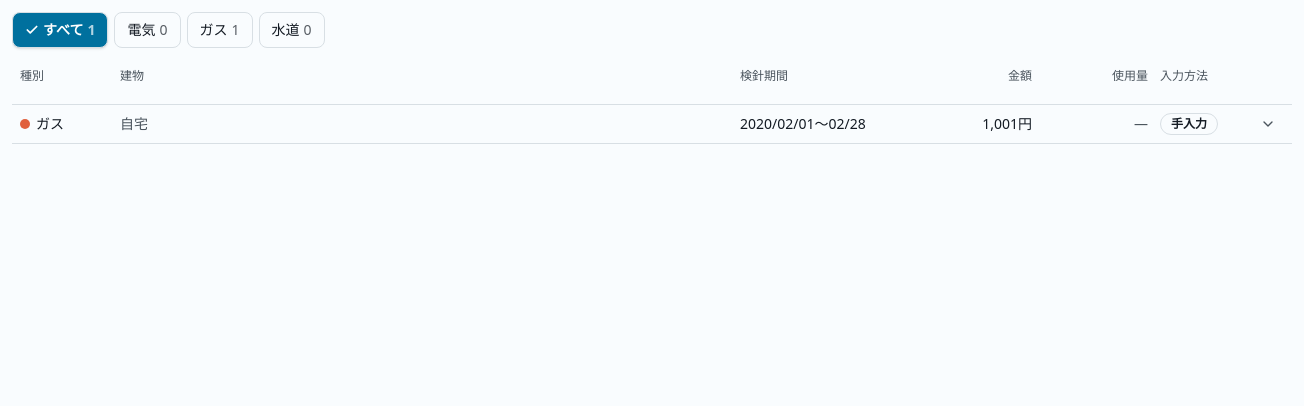
RecordList › rejects an invalid 使用量（m³）
Click the button "ガス 自宅 2020/02/01〜02/28 1,001円 — 手入力" at (803, 124), box [12, 105, 1292, 143]
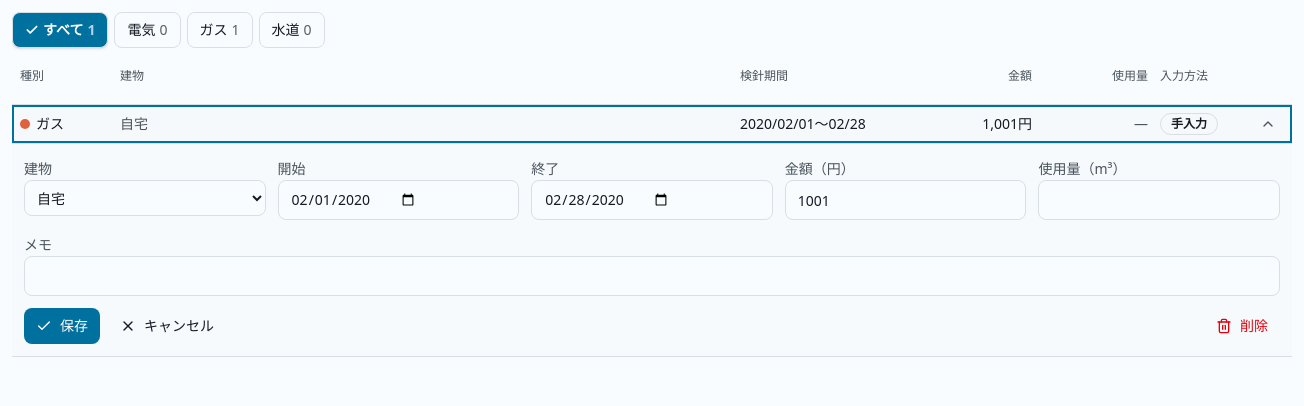
Type "-1" into the field labelled "使用量（m³）" at (1159, 200), box [1038, 180, 1280, 220]
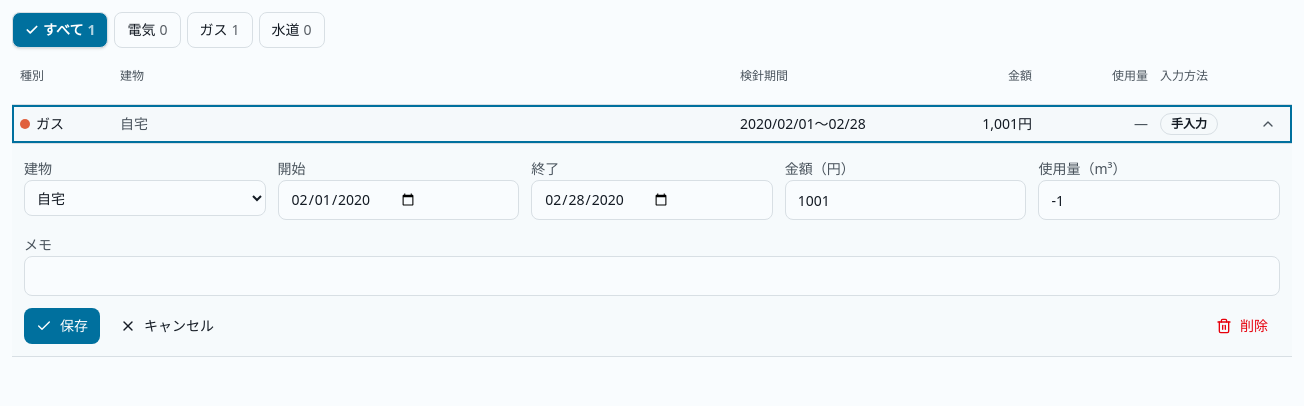
Click the button "保存" at (62, 326), box [24, 308, 100, 344]
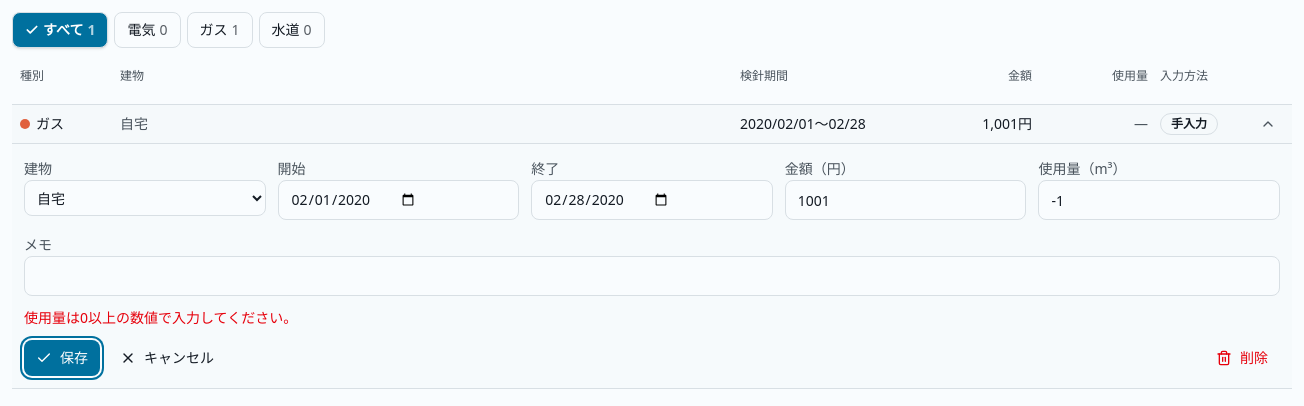
expect the message reads "使用量は0以上の数値で入力してください。": met, box [24, 308, 297, 327]
